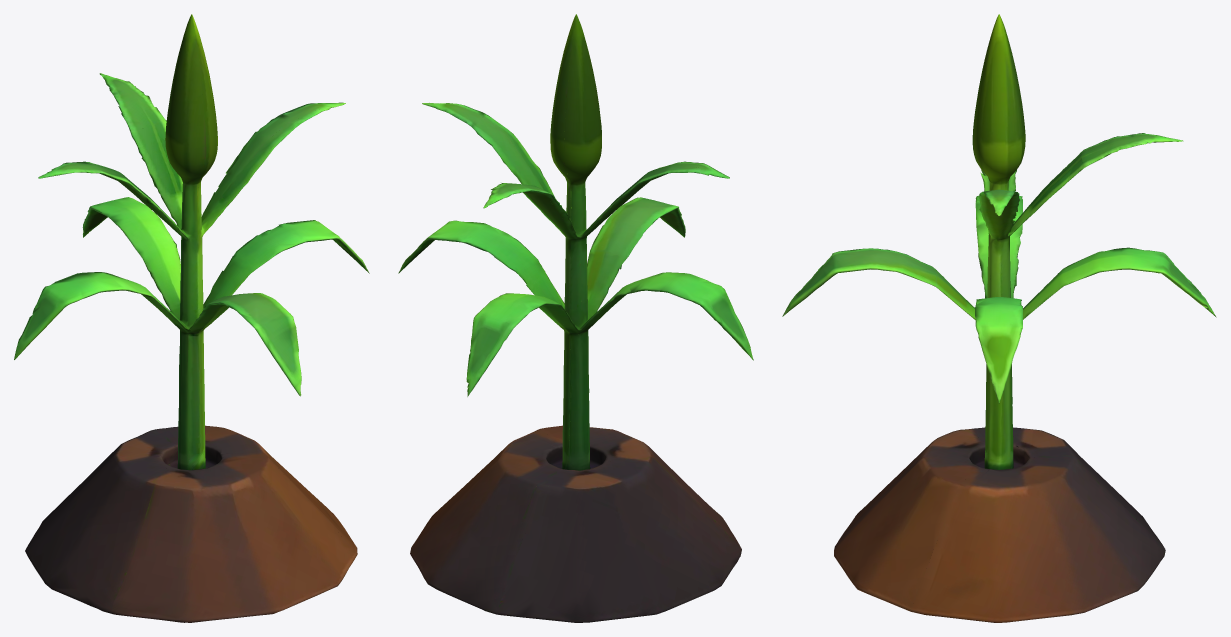
File: corn.glb
3 renders of one model, left to right at view 1: azimuth 30°, elevation 25°; view 2: azimuth 150°, elevation 25°; view 3: azimuth 270°, elevation 25°, orthographic.
Parts seen in each view (by area): view 1: corn; view 2: corn; view 3: corn.
Part boxes in pixels (x1,y1,x2,y2): corn: [14, 14, 369, 622]; corn: [398, 14, 753, 622]; corn: [782, 14, 1216, 622].
Size of the model in its own units: 1.1 by 1.6 by 1.16.
1 material, 1 textured.
